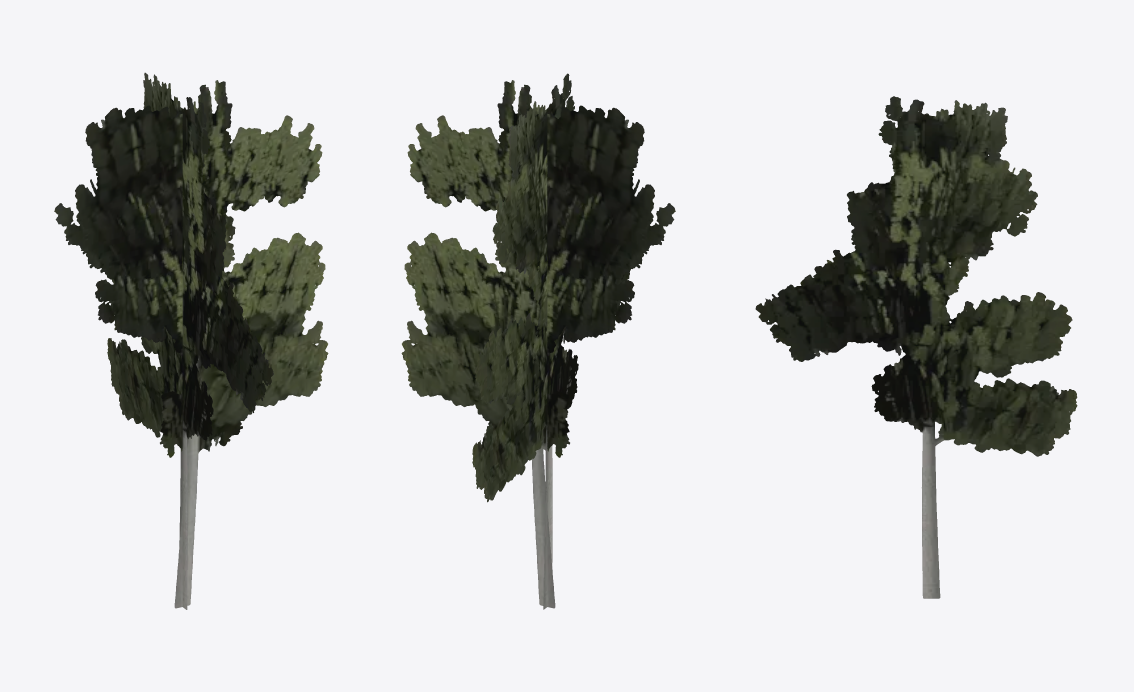
File: nat_birch_b_impostor.glb
3 renders of one model, left to right at view 1: azimuth 30°, elevation 25°; view 2: azimuth 150°, elevation 25°; view 3: azimuth 270°, elevation 25°, orthographic. The views are drawn at different scales.
Parts seen in each view (by area): view 1: imp_front, imp_side; view 2: imp_front, imp_side; view 3: imp_side.
Part boxes in pixels (box(x1,y1,x2,y2)): imp_front: box(54, 80, 328, 608); imp_side: box(107, 72, 273, 609); imp_front: box(401, 80, 675, 608); imp_side: box(472, 73, 630, 609); imp_side: box(755, 96, 1077, 598).
Bounding box in the file's own units: 4.81 × 7.14 × 4.81.
Materials: 2 (2 with a texture image).
